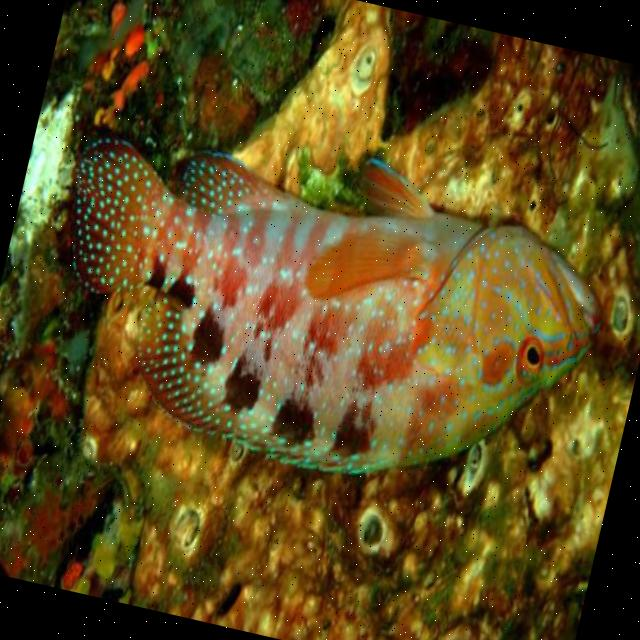ikan: (18, 90, 628, 531)
